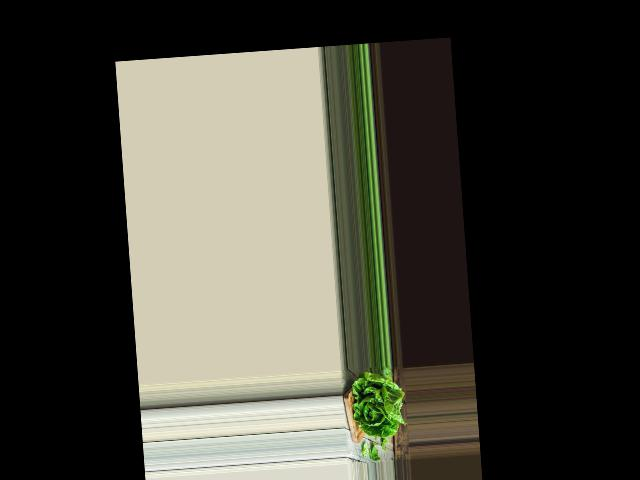lettuce: (347, 368, 405, 437)
